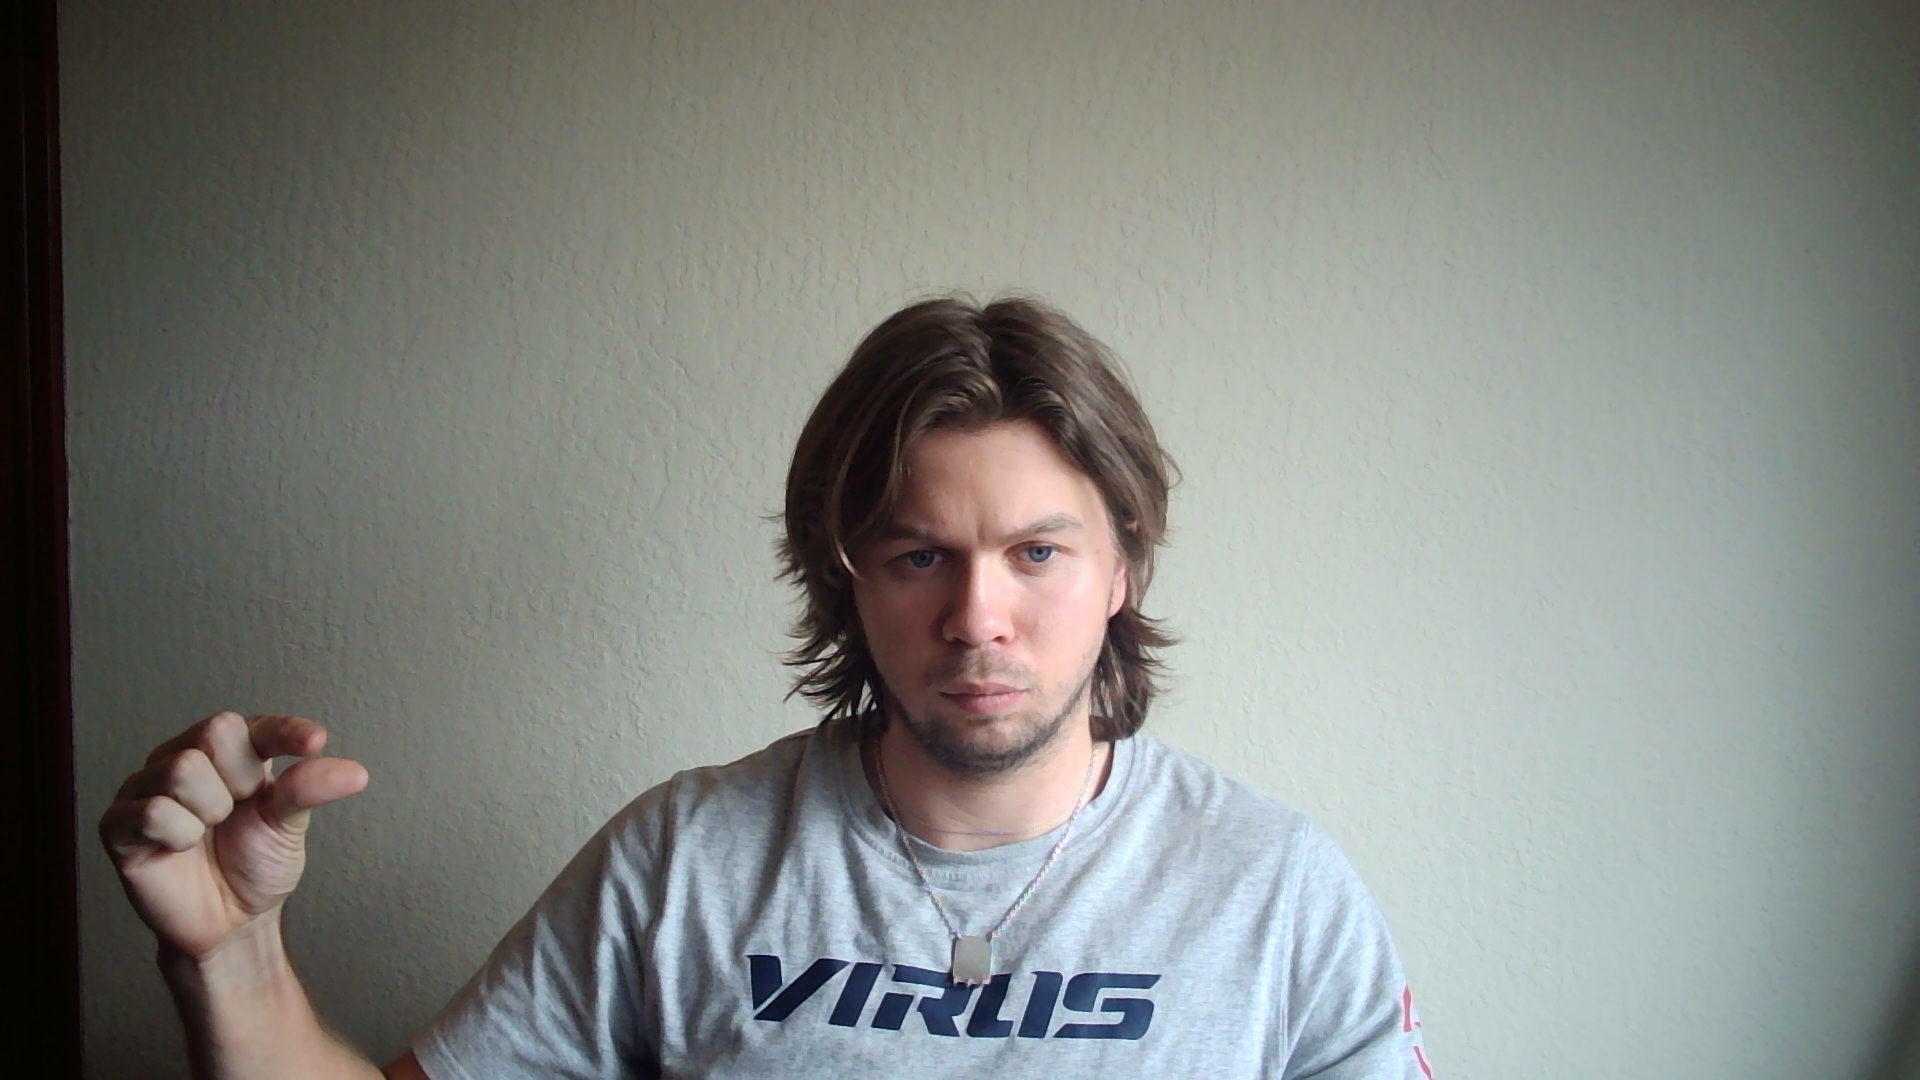small: (98, 711, 369, 951)
